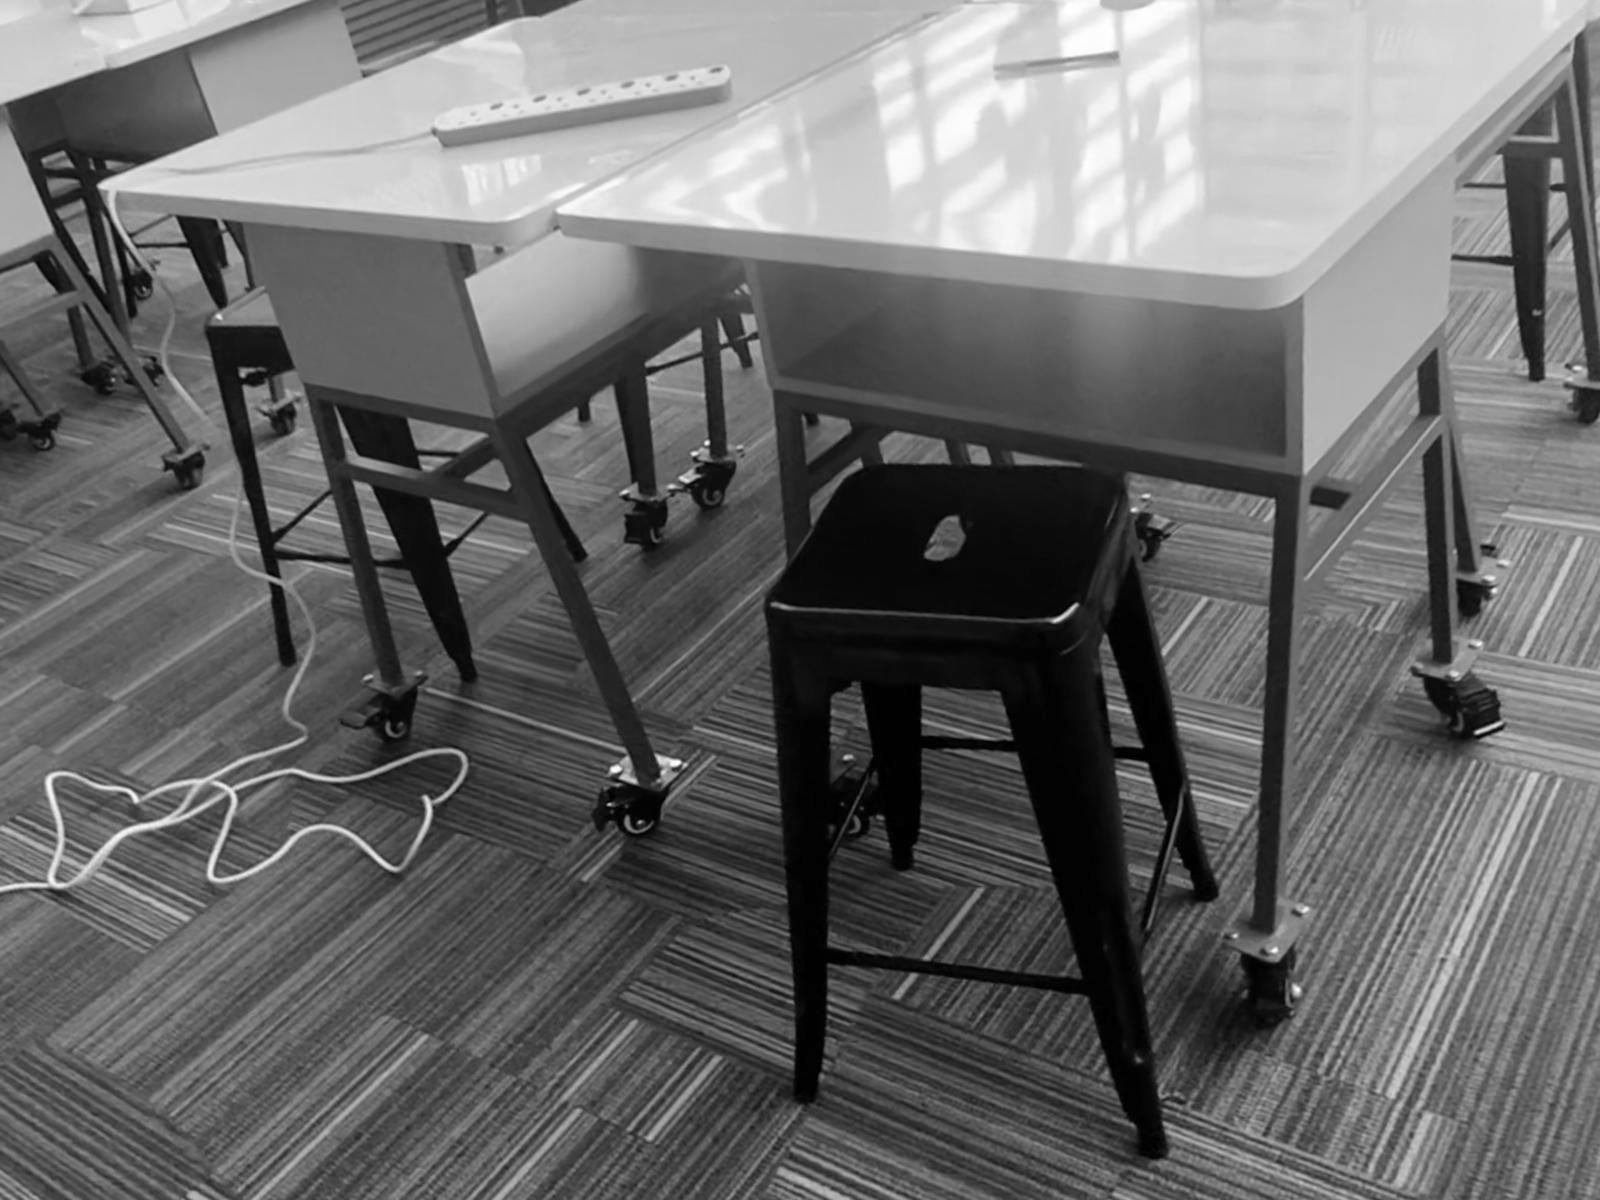Chair: (766, 465, 1217, 1156), (207, 289, 292, 582)
Table: (106, 0, 1599, 1021)
